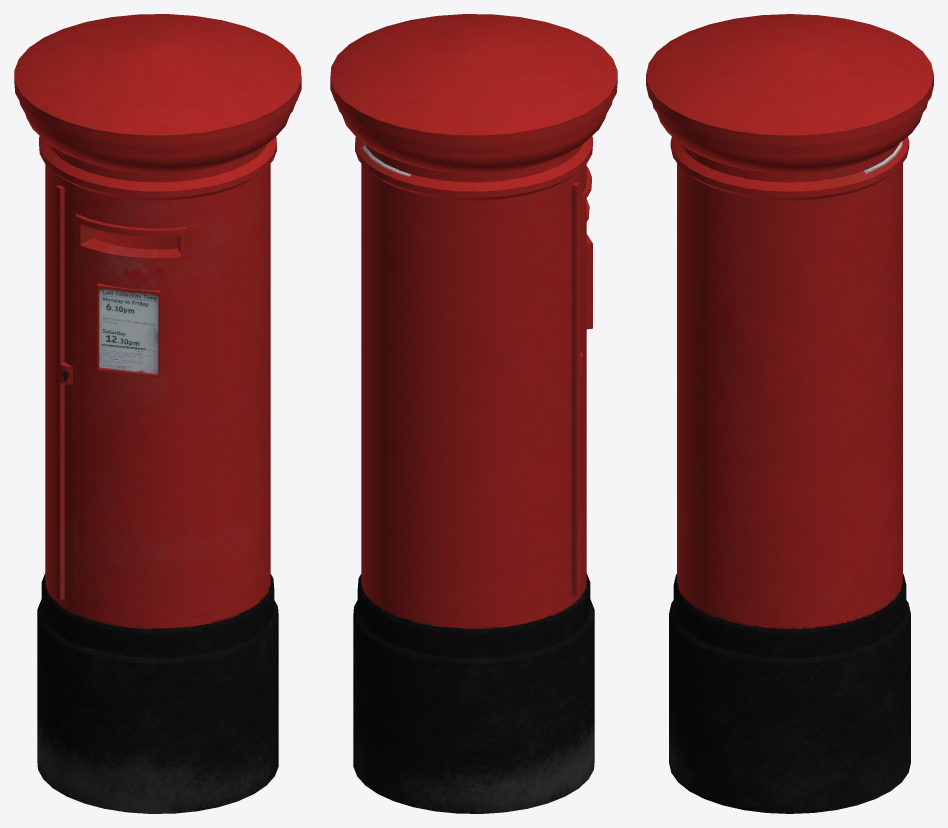
3 views of the same model, side by side, from view 1: azimuth 30°, elevation 25°; view 2: azimuth 150°, elevation 25°; view 3: azimuth 270°, elevation 25° (orthographic).
Visible parts, largest first — view 1: body_0, door_2, top_1; view 2: body_0, top_1, door_2; view 3: body_0, top_1.
Part boxes in pixels (x1,y1,x2,y2): body_0: [37, 136, 278, 813]; door_2: [56, 185, 214, 619]; top_1: [14, 14, 301, 182]; body_0: [353, 136, 594, 813]; top_1: [330, 14, 617, 182]; door_2: [571, 164, 592, 596]; body_0: [669, 136, 910, 813]; top_1: [646, 14, 933, 182].
Size of the model in its own units: 0.6386 by 1.76 by 0.6386.
Materials: 1 (1 with a texture image).
